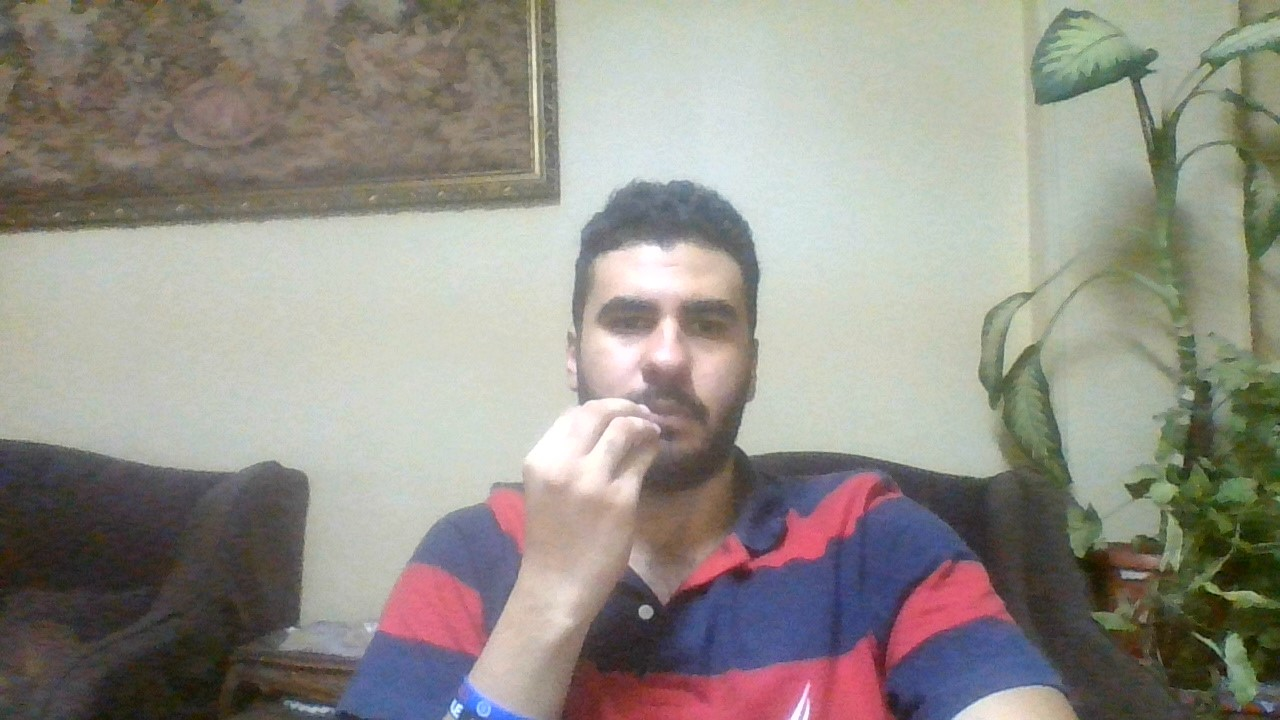eat: (508, 384, 667, 571)
